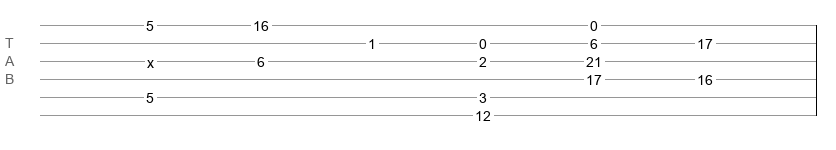0: (479, 36, 487, 46), (590, 18, 598, 28)
1: (368, 36, 376, 46)
12: (475, 108, 491, 118)
16: (253, 18, 269, 28), (697, 72, 713, 82)
17: (586, 72, 602, 82), (697, 36, 713, 46)
2: (479, 54, 487, 64)
21: (586, 54, 602, 64)
3: (479, 90, 487, 100)
5: (146, 90, 154, 100), (146, 18, 154, 28)
6: (257, 54, 265, 64), (590, 36, 598, 46)
x: (147, 55, 154, 63)
